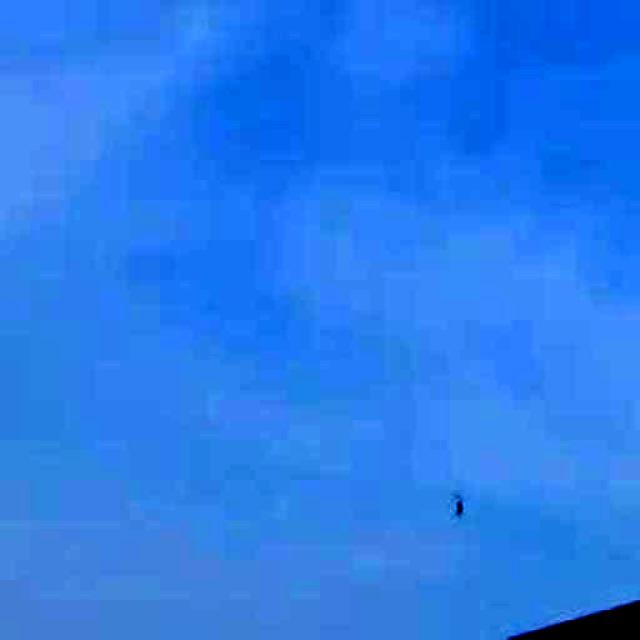drone: (431, 472, 485, 532)
